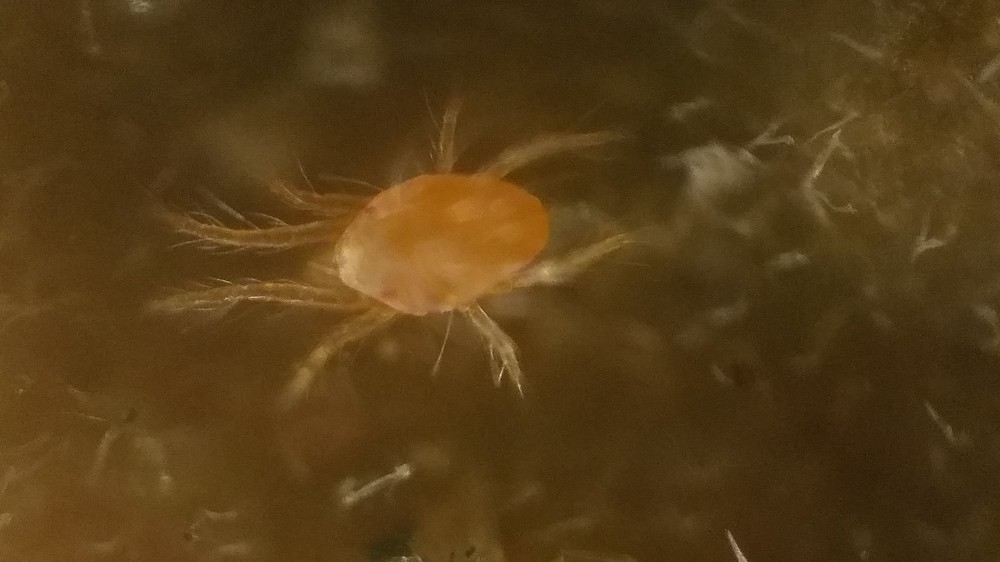Aracnido Rojo: (157, 82, 681, 425)
